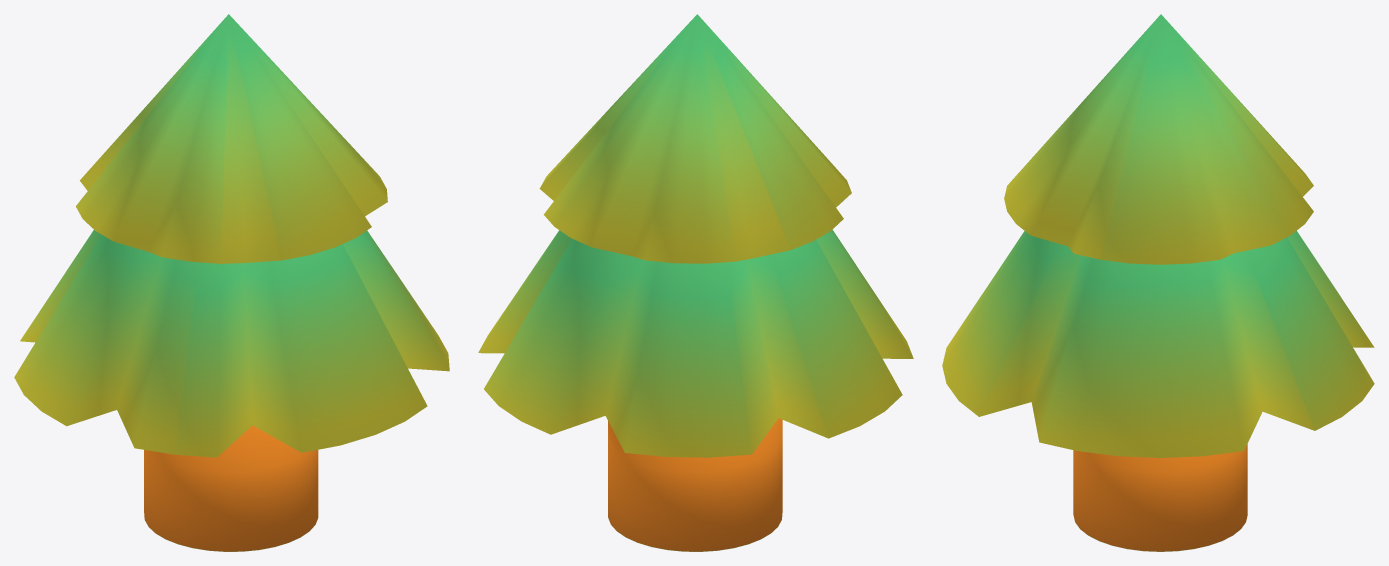
File: tree_03.glb
3 views of the same model, side by side, from view 1: azimuth 30°, elevation 25°; view 2: azimuth 150°, elevation 25°; view 3: azimuth 270°, elevation 25° (orthographic).
Visible parts, largest first — view 1: Tree_01; view 2: Tree_01; view 3: Tree_01.
Part boxes in pixels (x1,y1,x2,y2): Tree_01: (14, 14, 449, 551); Tree_01: (478, 14, 913, 551); Tree_01: (942, 14, 1374, 551).
Bounding box in the file's own units: 2 × 2.53 × 1.98.
1 material, 1 textured.
